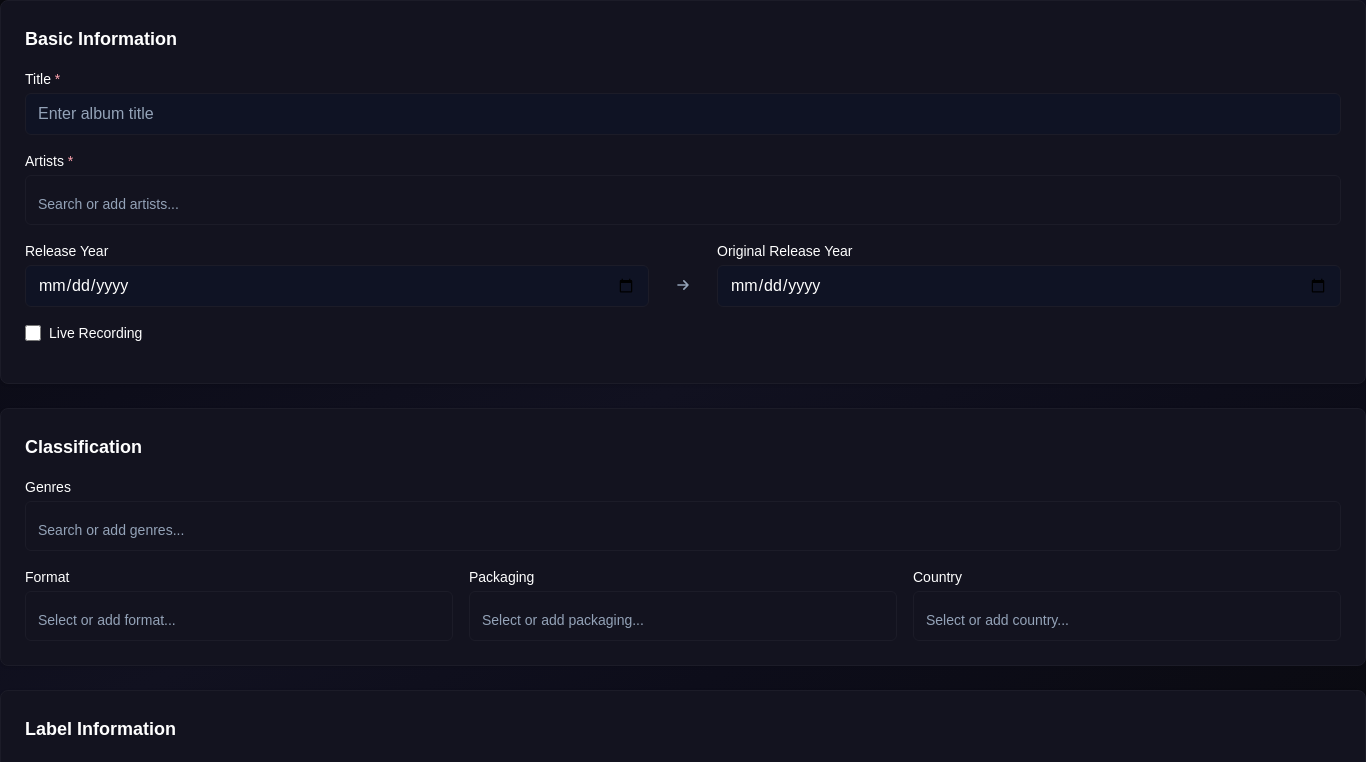
Scenario: AddReleaseForm › Copy Release Year Button › copies release year to original release year when button is clicked
The image size is (1366, 762).
Expected: the field labelled "Title *" is shown, [25, 93, 1341, 135]
Note: Set release year
Type "2024-06-15" into the date field labelled "Release Year". click: (337, 286)
box: [25, 265, 649, 307]
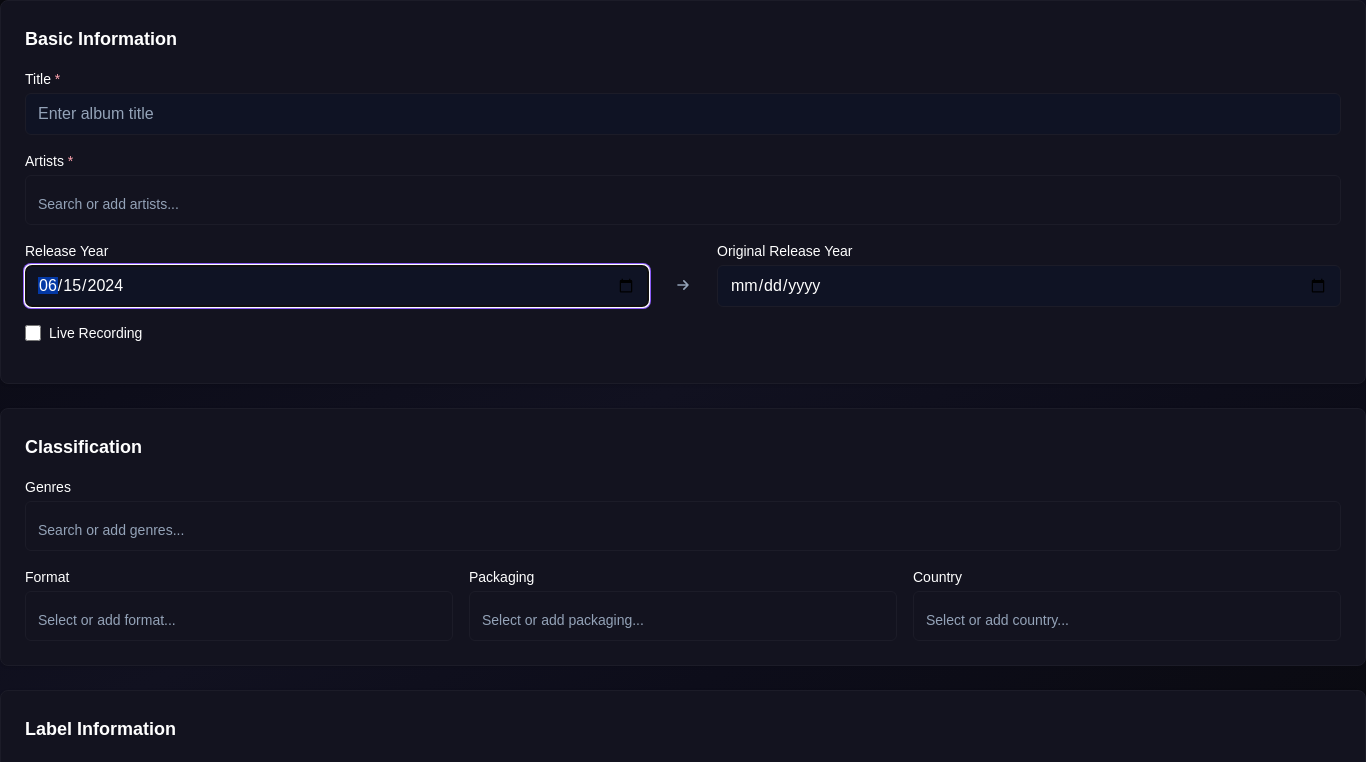
Note: Click the copy button
Click the button named "Copy Release Year to Original Release Year". click: (683, 285)
box: [665, 267, 701, 303]
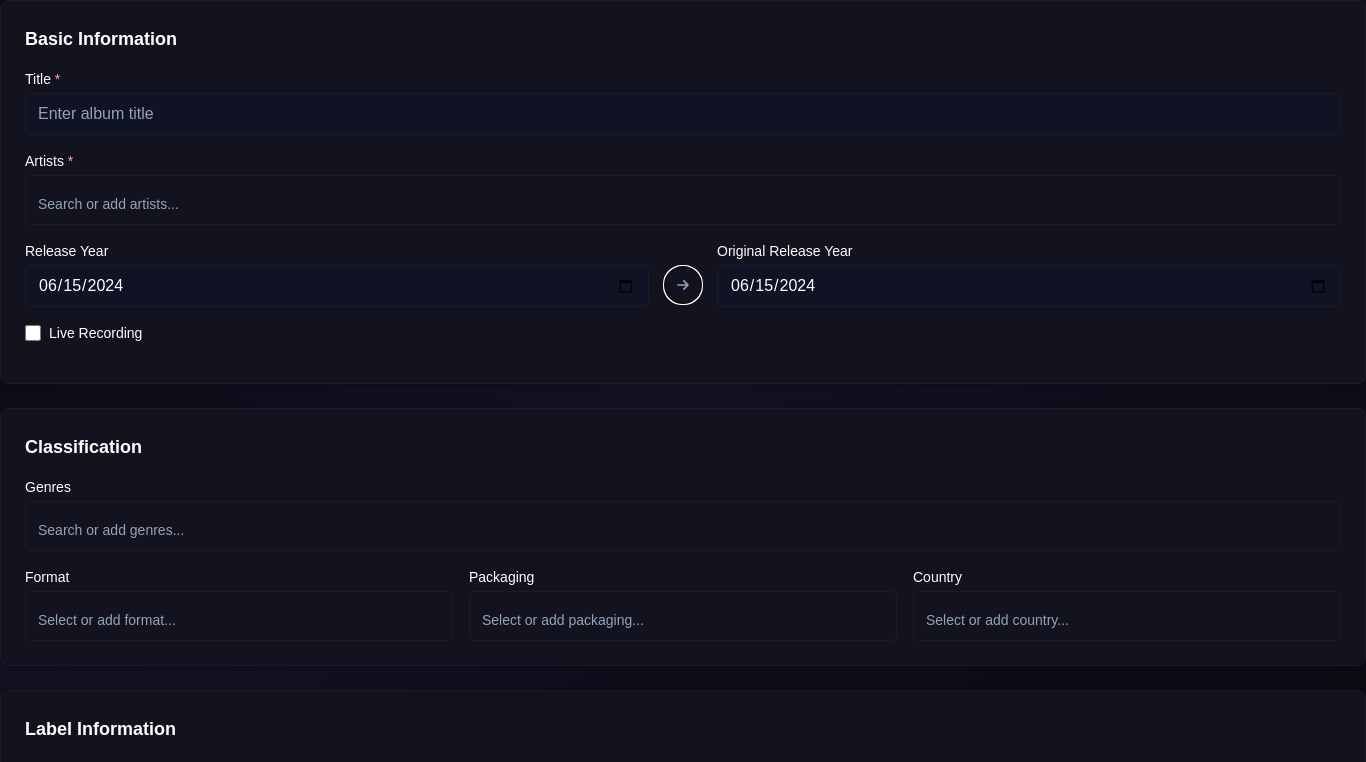
Expected: the date field labelled "Original Release Year" holds "2024-06-15", [717, 265, 1341, 307]
